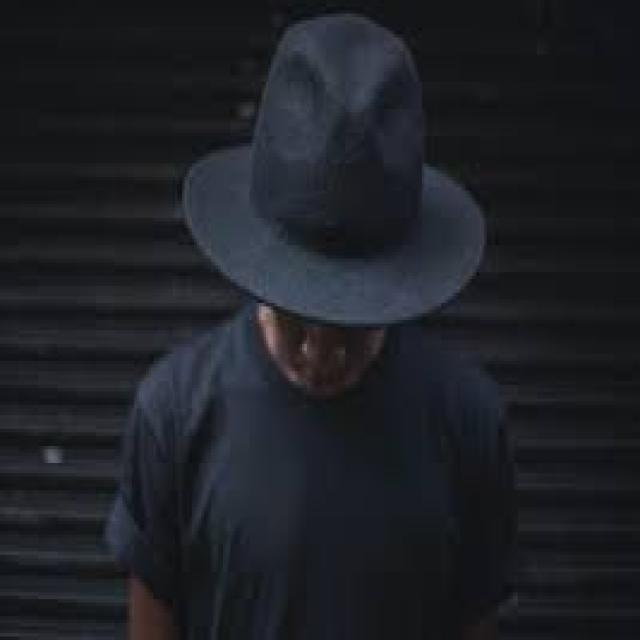hat: (182, 20, 487, 395)
